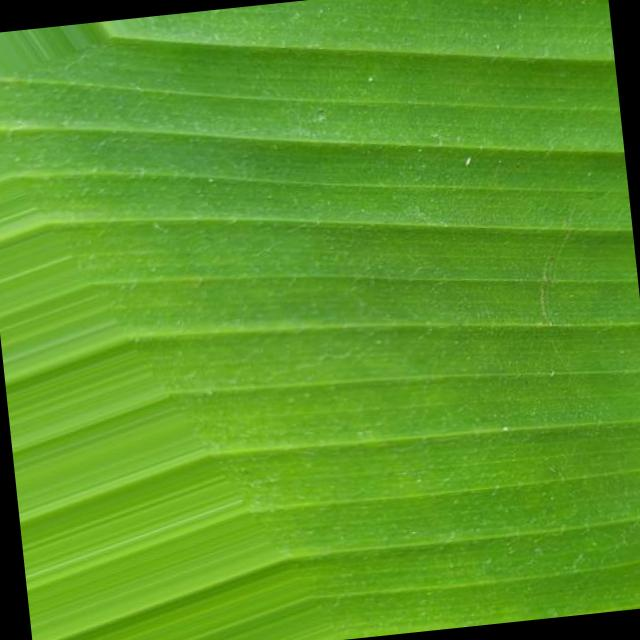Banana_Healthy: (105, 101, 618, 502)
